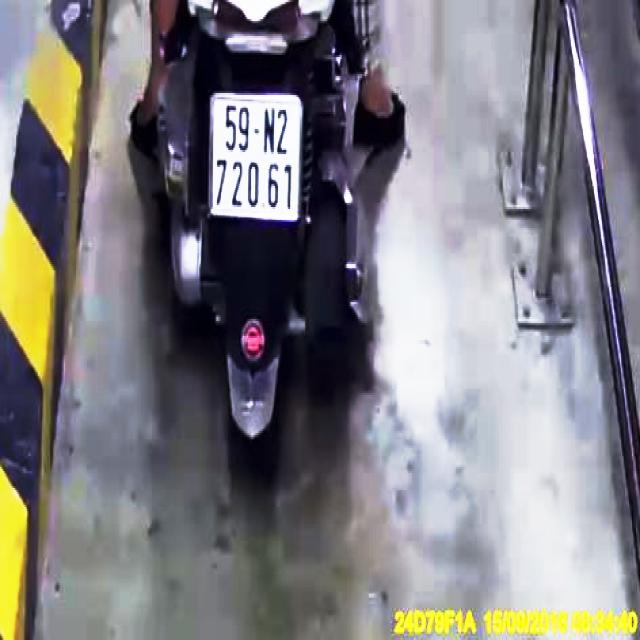license_plate: (213, 96, 299, 222)
